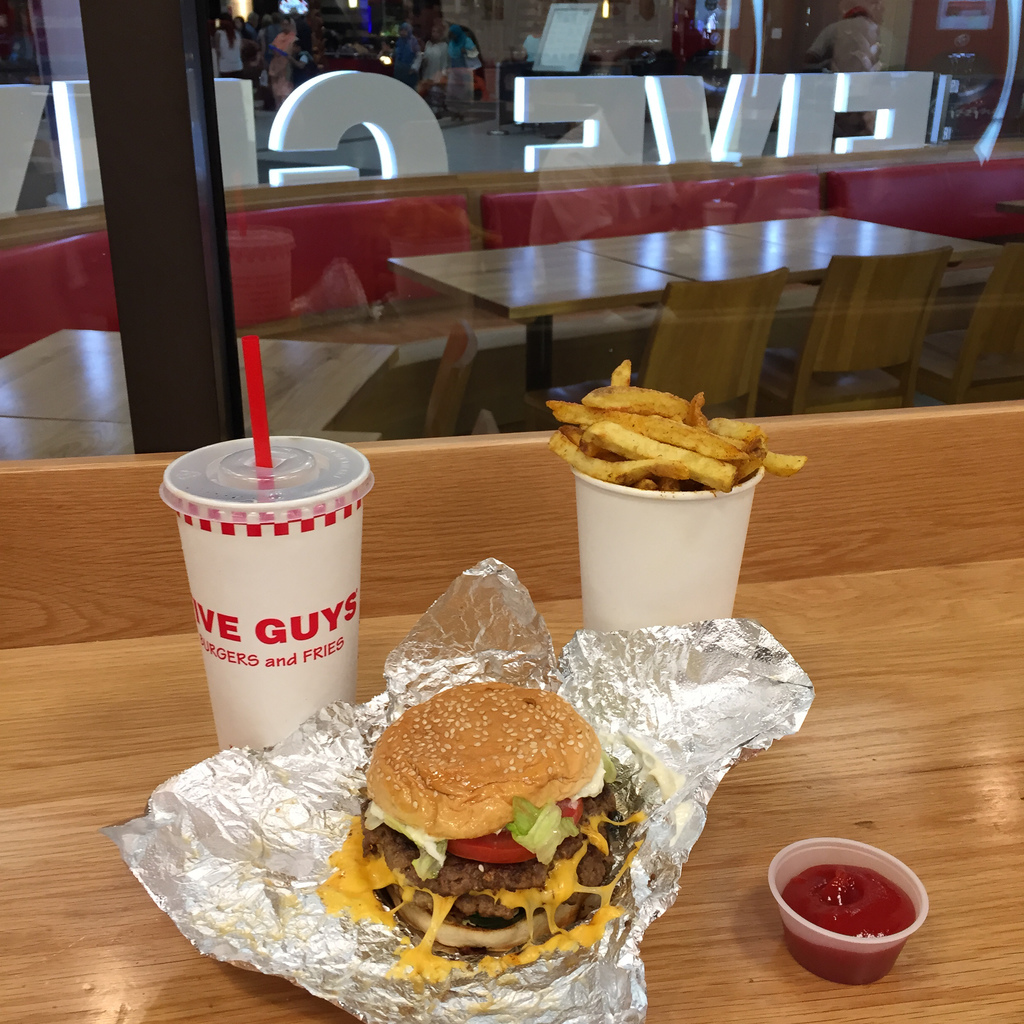French fries: (524, 373, 796, 494)
